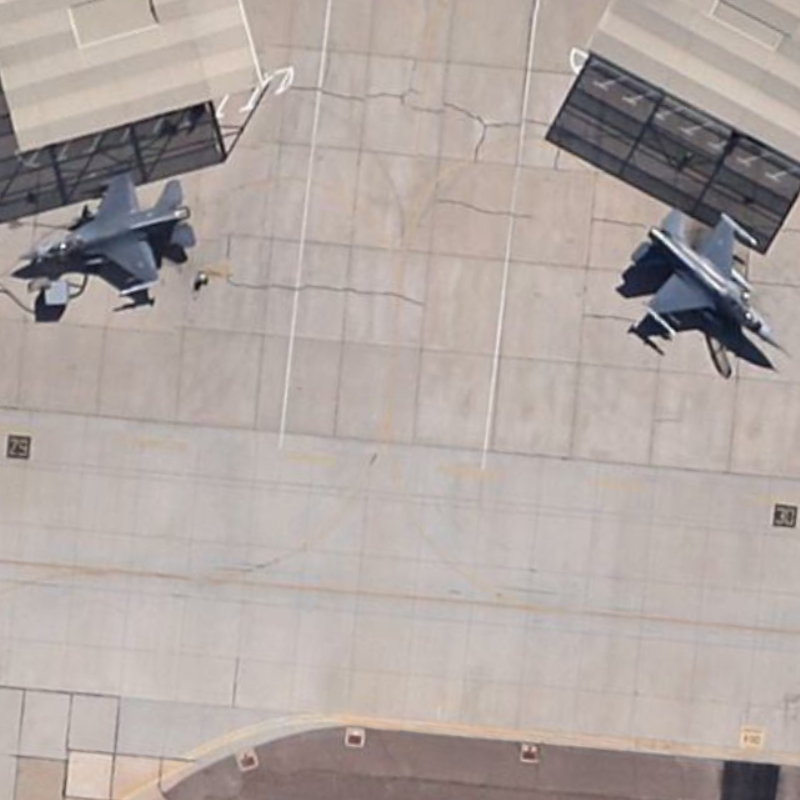A5: (625, 203, 793, 361), (6, 165, 205, 296)
